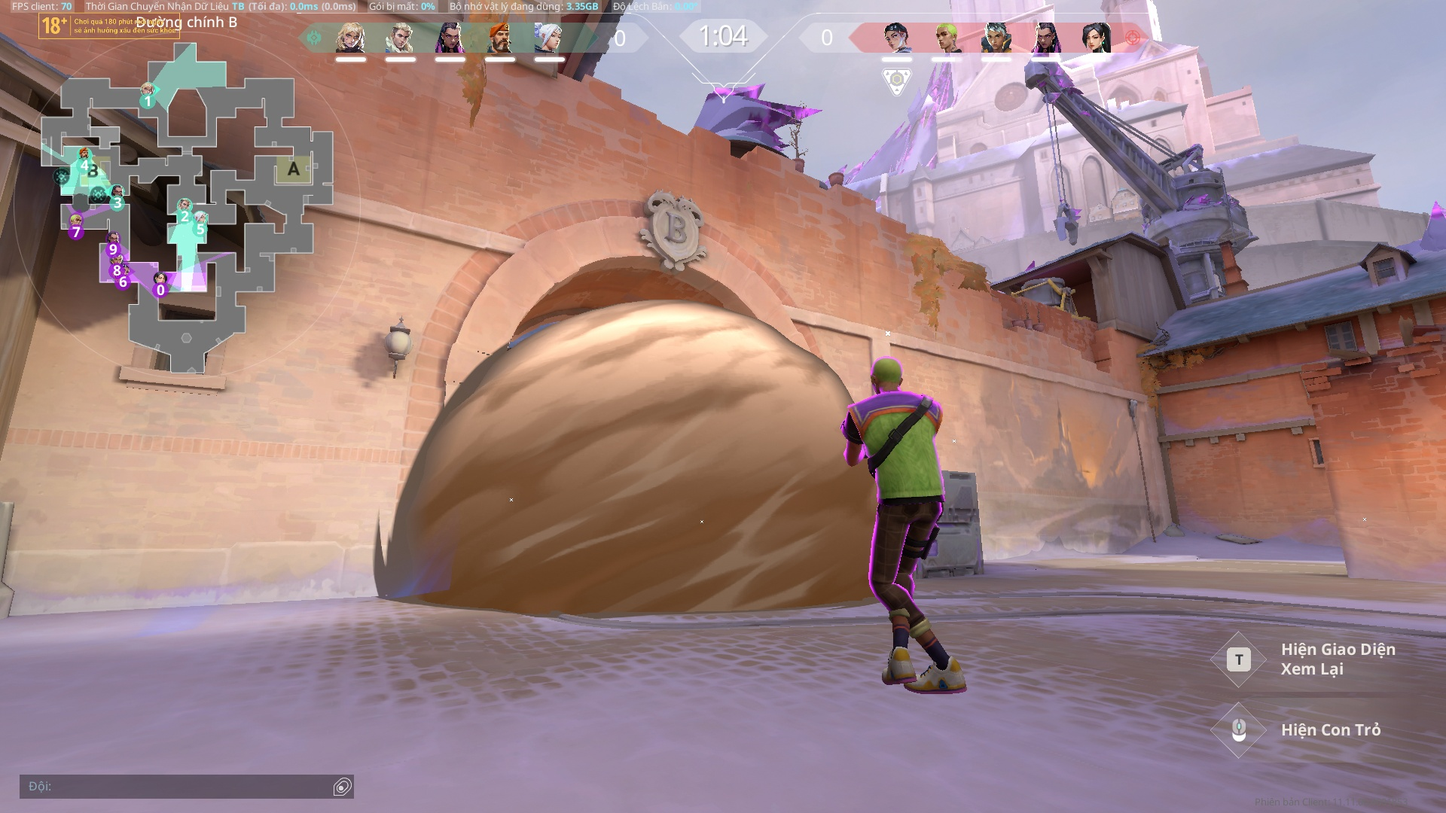body: (837, 392, 946, 485)
head: (866, 354, 909, 398)
